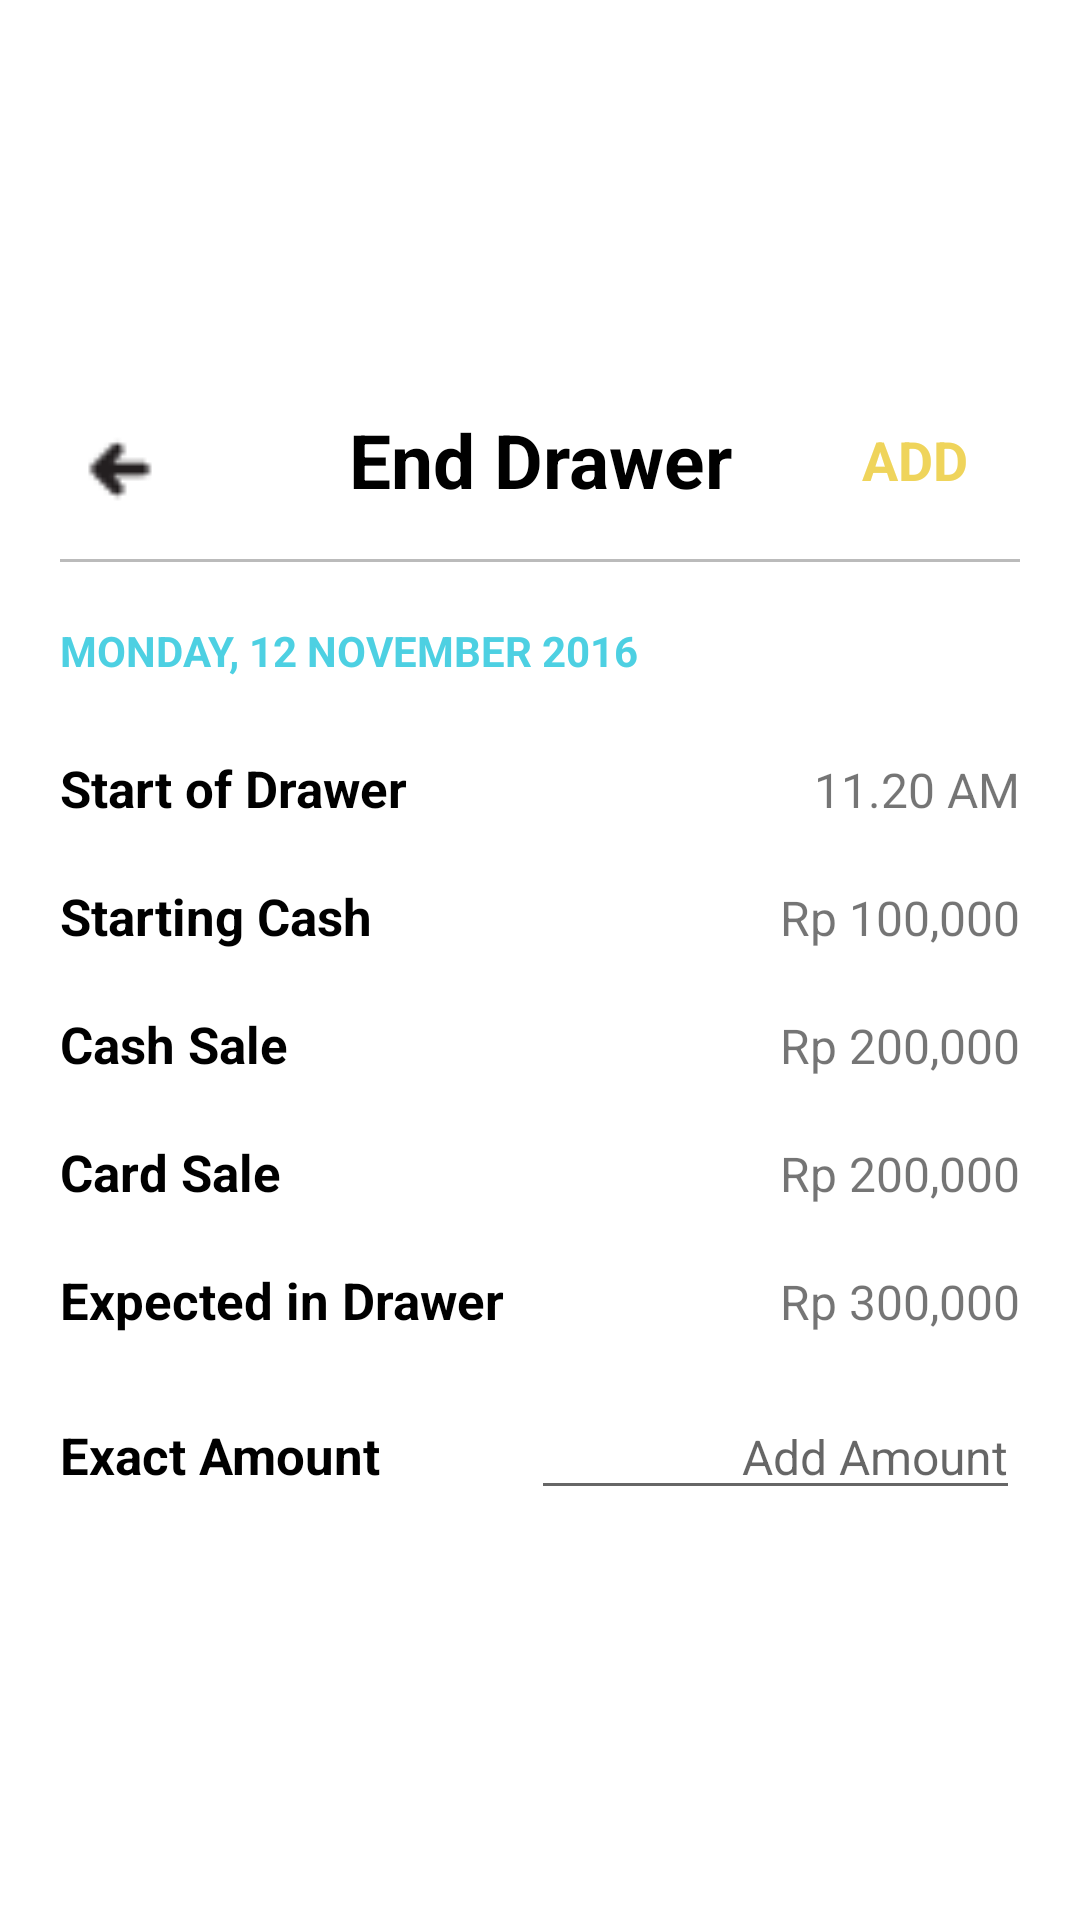

Locate icon controls on the screen. Image size 1080×1920, boxes as (x1, y1, x2, y2).
arrowleft: (88, 442, 152, 499)
